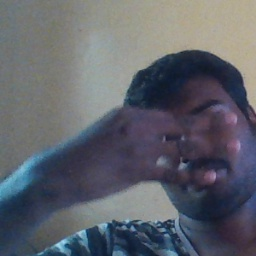K: (64, 106, 243, 193)
